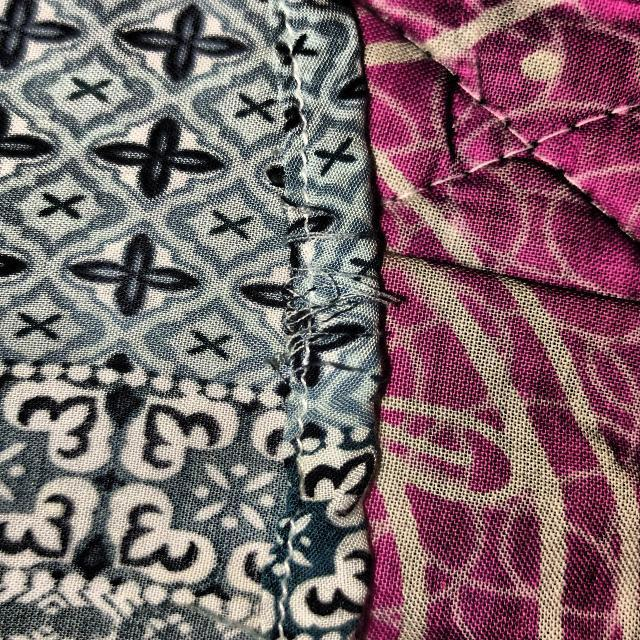gray stitch: (282, 218, 408, 492)
